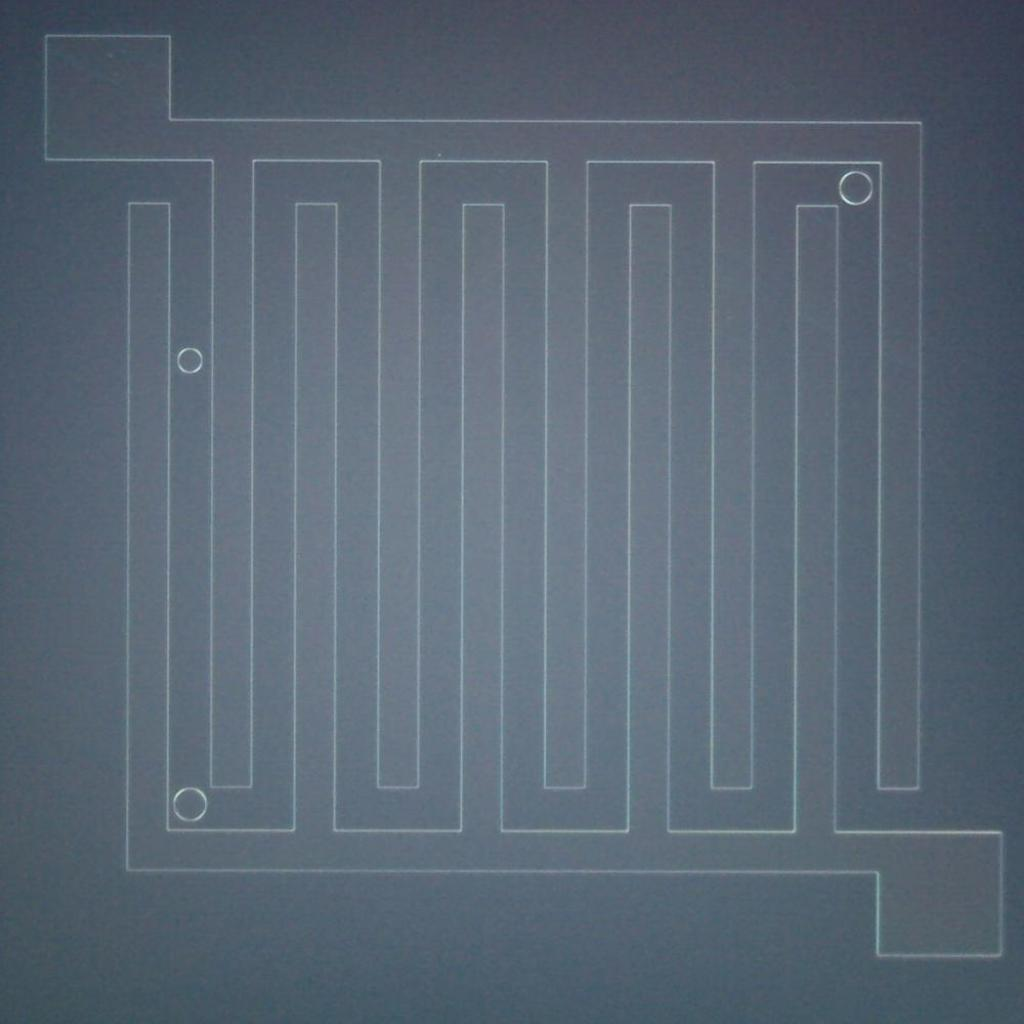circle: (170, 784, 210, 825), (837, 168, 877, 208), (174, 344, 207, 378)
